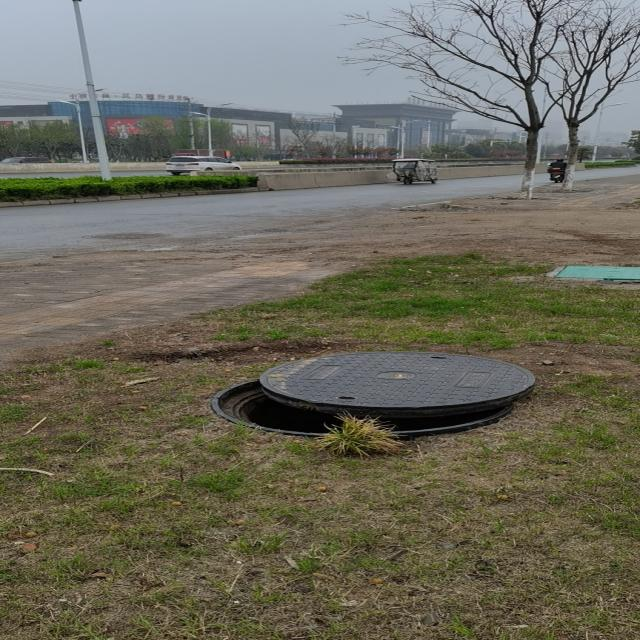Faulty: (208, 352, 533, 438)
